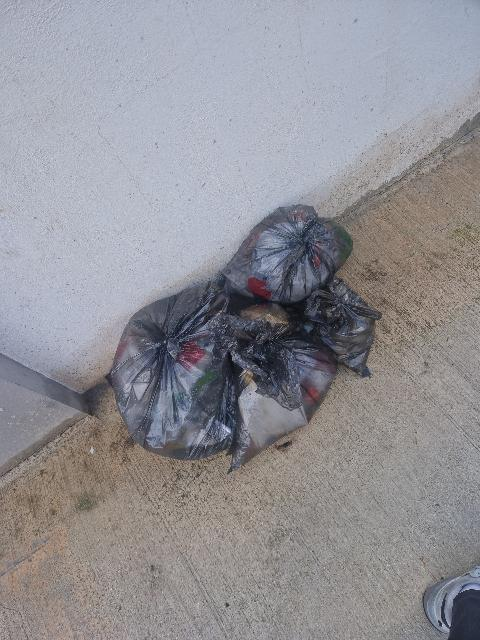Recyclable -Grey-: (111, 282, 237, 459), (231, 303, 337, 469), (222, 205, 352, 304), (300, 277, 381, 375), (339, 307, 341, 312)
